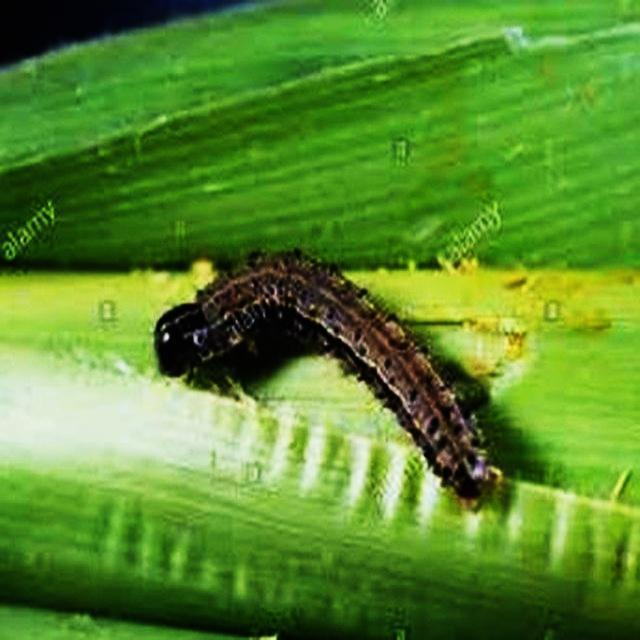gusano_cogollero: (152, 238, 506, 517)
